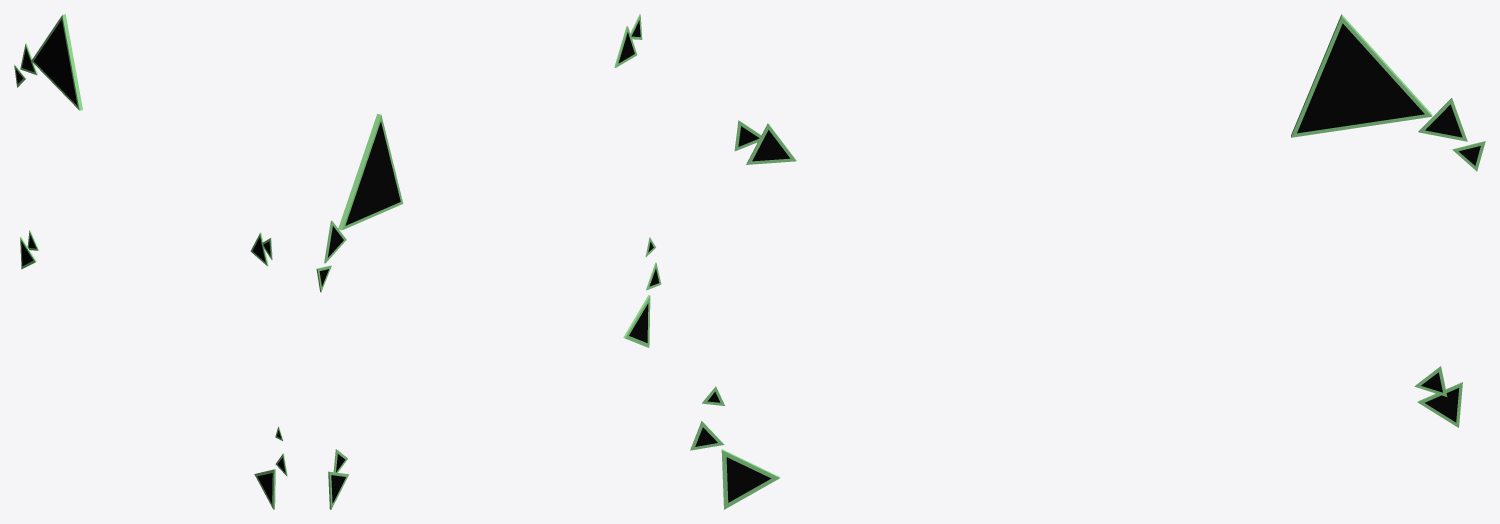
Rendered from REC_UI_Stage2.fbx.
3 renders of one model, left to right at view 1: azimuth 30°, elevation 25°; view 2: azimuth 150°, elevation 25°; view 3: azimuth 270°, elevation 25°, orthographic. The views are drawn at different scales.
Parts seen in each view (by area): view 1: Cylinder, Cylinder.005; view 2: Cylinder, Cylinder.005, Cylinder.001, Cylinder.008, Cylinder.004; view 3: Cylinder, Cylinder.005, Cylinder.008, Cylinder.001, Cylinder.004.
Boxes of the visible parts, x1,y1,x2,y2 form: Cylinder: [31, 14, 82, 110]; Cylinder.005: [254, 469, 275, 509]; Cylinder: [338, 114, 403, 230]; Cylinder.005: [623, 295, 650, 347]; Cylinder.001: [324, 220, 346, 263]; Cylinder.008: [614, 26, 637, 67]; Cylinder.004: [328, 471, 348, 509]; Cylinder: [1291, 14, 1432, 137]; Cylinder.005: [721, 449, 780, 509]; Cylinder.008: [746, 123, 796, 164]; Cylinder.001: [1418, 98, 1467, 141]; Cylinder.004: [1417, 382, 1462, 427].
Size of the model in its own units: 0.1524 by 12.04 by 17.52.
